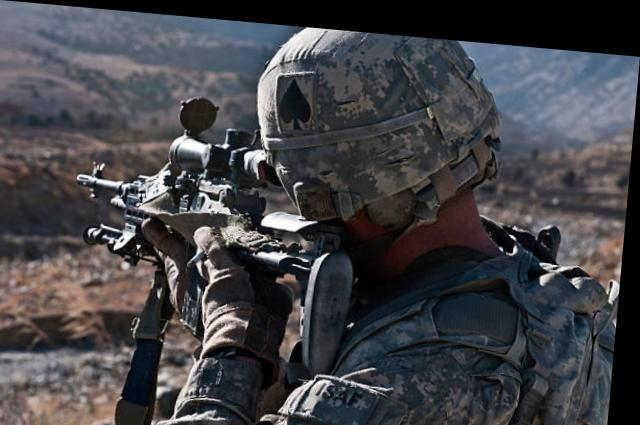other: (193, 25, 635, 424)
